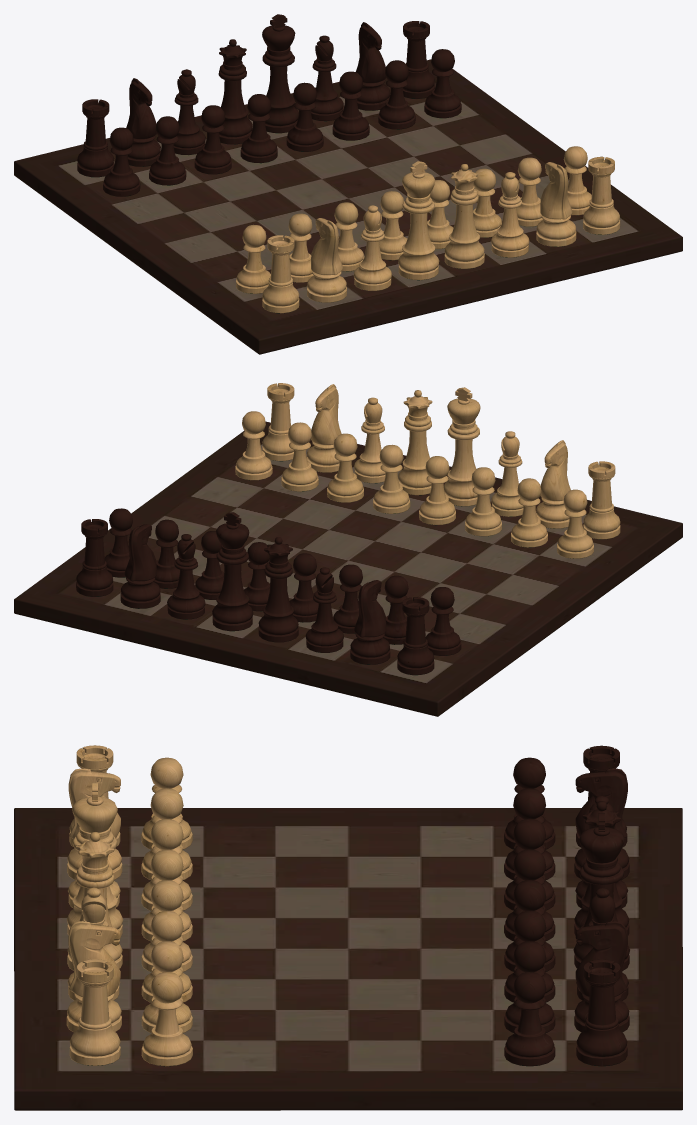
Rendered from set.glb.
The picture shows the model from 3 angles, top to bottom: view 1: azimuth 30°, elevation 25°; view 2: azimuth 150°, elevation 25°; view 3: azimuth 270°, elevation 25°; orthographic projection. The views are drawn at different scales.
Parts seen in each view (by area): view 1: board, white-king-3, black-king-4, white-queen-4, black-queen-3, white-knight-6, white-knight-1, black-knight-1, black-knight-6, white-rook-0, white-rook-7, black-rook-0 (+21 smaller); view 2: board, black-king-4, white-king-3, black-queen-3, black-knight-6, white-queen-4, black-knight-1, white-knight-1, white-knight-6, black-rook-0, black-rook-7, white-rook-0 (+21 smaller); view 3: board, white-rook-7, black-rook-7, black-pawn-7, white-pawn-7, black-king-4, black-knight-6, white-knight-6, white-king-3, black-knight-1, white-queen-4, white-knight-1 (+20 smaller).
Boxes of the visible parts, x1,y1,x2,y2 form: board: (14, 59, 682, 354); white-king-3: (398, 161, 439, 280); black-king-4: (262, 14, 298, 133); white-queen-4: (444, 164, 484, 268); black-queen-3: (218, 39, 252, 144); white-knight-6: (536, 162, 576, 246); white-knight-1: (307, 218, 346, 302); black-knight-1: (126, 78, 160, 166); black-knight-6: (356, 22, 390, 110); white-rook-0: (262, 235, 299, 313); white-rook-7: (583, 156, 620, 234); black-rook-0: (77, 99, 114, 177); board: (14, 421, 682, 716); black-king-4: (212, 512, 253, 631); white-king-3: (443, 387, 480, 506); black-queen-3: (258, 537, 298, 642); black-knight-6: (120, 524, 160, 608); white-queen-4: (398, 390, 432, 495); black-knight-1: (350, 580, 390, 664); white-knight-1: (536, 440, 570, 528); white-knight-6: (307, 384, 341, 472); black-rook-0: (397, 597, 434, 675); black-rook-7: (76, 519, 113, 596); white-rook-0: (583, 461, 620, 539); board: (14, 808, 682, 1110); white-rook-7: (69, 959, 120, 1065); black-rook-7: (576, 959, 627, 1066); black-pawn-7: (504, 972, 555, 1066); white-pawn-7: (141, 972, 192, 1066); black-king-4: (573, 813, 629, 970); black-knight-6: (574, 921, 629, 1032); white-knight-6: (66, 921, 121, 1032); white-king-3: (66, 782, 123, 936); black-knight-1: (574, 768, 629, 880); white-queen-4: (67, 832, 122, 970); white-knight-1: (67, 768, 122, 879).
Bounding box in the file's own units: 31.77 × 8.97 × 31.77.
3 materials, 3 textured.
